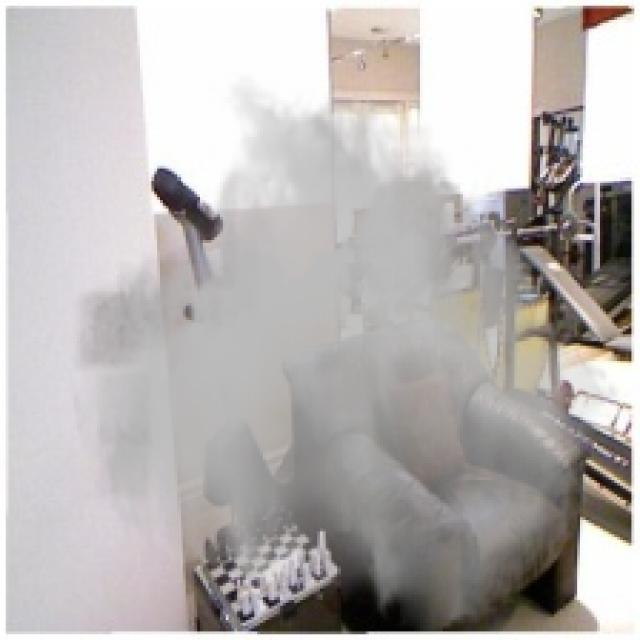smoke: (66, 72, 620, 637)
